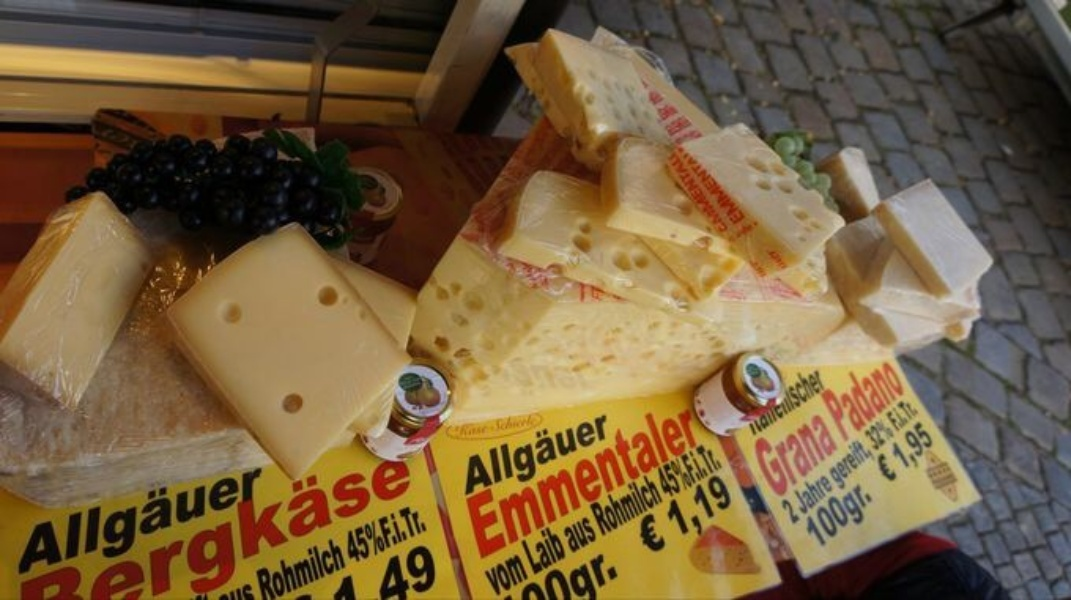text: (689, 396, 705, 561), (465, 396, 480, 561), (481, 396, 496, 561), (497, 396, 512, 561), (513, 396, 528, 561), (529, 396, 544, 561), (545, 396, 560, 561), (561, 396, 576, 561), (577, 396, 592, 561), (593, 396, 608, 561), (609, 396, 624, 561), (625, 396, 640, 561), (641, 396, 656, 561), (657, 396, 672, 561), (673, 396, 688, 561), (17, 445, 32, 599), (33, 445, 48, 599), (49, 445, 64, 599), (65, 445, 80, 599), (81, 445, 96, 599), (97, 445, 112, 599), (113, 445, 128, 599), (129, 445, 144, 599), (145, 445, 160, 599), (161, 445, 176, 599), (177, 445, 192, 599), (193, 445, 208, 599), (209, 445, 224, 599), (225, 445, 240, 599), (241, 445, 256, 599), (257, 445, 272, 599), (273, 445, 288, 599), (289, 445, 304, 599), (305, 445, 320, 599), (321, 445, 336, 599), (337, 445, 352, 599), (353, 445, 368, 599), (369, 445, 384, 599), (385, 445, 400, 599), (401, 445, 416, 599), (2, 445, 16, 599), (49, 462, 64, 586), (65, 462, 80, 586), (81, 462, 96, 586), (97, 462, 112, 586), (113, 462, 128, 586), (129, 462, 144, 586), (145, 462, 160, 586), (161, 462, 176, 586), (177, 462, 192, 586), (193, 462, 208, 586), (209, 462, 224, 586), (225, 462, 240, 586), (241, 462, 256, 586), (481, 407, 496, 509), (497, 407, 512, 509), (513, 407, 528, 509), (529, 407, 544, 509), (545, 407, 560, 509), (561, 407, 576, 509), (577, 407, 592, 509), (593, 407, 608, 509), (833, 352, 848, 448), (849, 352, 864, 448), (865, 352, 880, 448), (881, 352, 896, 448), (37, 462, 48, 586), (673, 471, 688, 560), (689, 471, 704, 560), (705, 471, 720, 560), (721, 471, 736, 560), (753, 415, 768, 503), (769, 415, 784, 503), (785, 415, 800, 503), (801, 415, 816, 503), (817, 415, 832, 503), (689, 149, 704, 232), (705, 149, 720, 232), (689, 144, 704, 226), (705, 144, 720, 226), (721, 144, 736, 226), (468, 407, 480, 509), (820, 352, 832, 448), (897, 352, 909, 448), (801, 482, 816, 555), (817, 482, 832, 555), (833, 482, 848, 555), (849, 482, 864, 555), (865, 482, 880, 555), (675, 149, 688, 232), (353, 503, 368, 569), (369, 503, 384, 569), (385, 503, 400, 569), (401, 503, 416, 569), (593, 475, 608, 538), (609, 475, 624, 538), (625, 475, 640, 538), (641, 475, 656, 538), (257, 538, 272, 599), (273, 538, 288, 599), (289, 538, 304, 599), (305, 538, 320, 599), (321, 538, 336, 599), (337, 538, 352, 599), (657, 443, 672, 503), (673, 443, 688, 503), (689, 443, 704, 503), (705, 443, 720, 503), (833, 437, 848, 497), (849, 437, 864, 497), (897, 419, 912, 478), (913, 419, 928, 478), (257, 462, 264, 586), (401, 542, 416, 599), (417, 542, 432, 599), (865, 399, 880, 456), (881, 399, 896, 456), (897, 399, 912, 456), (785, 361, 800, 418), (801, 361, 816, 418), (529, 525, 544, 578), (545, 525, 560, 578), (417, 503, 429, 569), (545, 549, 560, 599), (561, 549, 576, 599), (577, 549, 592, 599), (593, 549, 608, 599), (609, 549, 624, 599), (721, 149, 730, 232), (664, 471, 672, 560), (641, 512, 656, 558), (801, 473, 816, 519), (817, 473, 832, 519), (497, 555, 512, 599), (513, 555, 528, 599), (865, 437, 876, 497), (737, 144, 745, 226), (482, 555, 496, 599), (833, 415, 840, 503), (561, 515, 576, 555), (577, 515, 592, 555), (929, 419, 939, 478), (681, 144, 688, 226), (774, 361, 784, 418), (817, 361, 827, 418), (887, 419, 896, 478), (753, 405, 768, 440), (769, 405, 784, 440), (391, 542, 400, 599), (433, 542, 442, 599), (913, 399, 922, 456), (657, 512, 668, 558), (824, 437, 832, 497), (657, 475, 664, 538), (520, 525, 528, 578), (561, 525, 569, 578), (886, 451, 896, 487), (625, 549, 632, 599), (347, 503, 352, 569), (793, 473, 800, 519), (593, 515, 601, 555), (790, 498, 800, 528), (749, 415, 752, 503), (721, 443, 725, 503), (881, 482, 884, 555), (653, 443, 656, 503), (637, 512, 640, 558), (590, 475, 592, 538), (353, 538, 355, 599), (897, 451, 900, 487), (749, 405, 752, 440), (785, 405, 788, 440), (542, 549, 544, 599), (833, 473, 835, 519), (801, 498, 804, 528), (529, 555, 530, 599)
